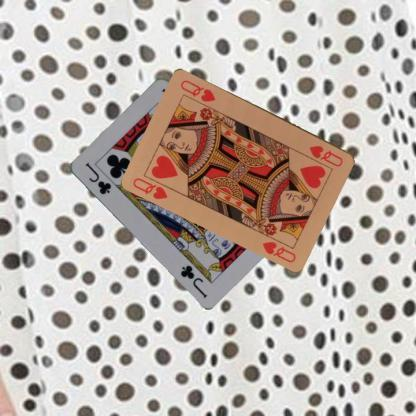Jc: (82, 159, 112, 196)
Qh: (130, 174, 170, 200), (307, 142, 344, 168)
